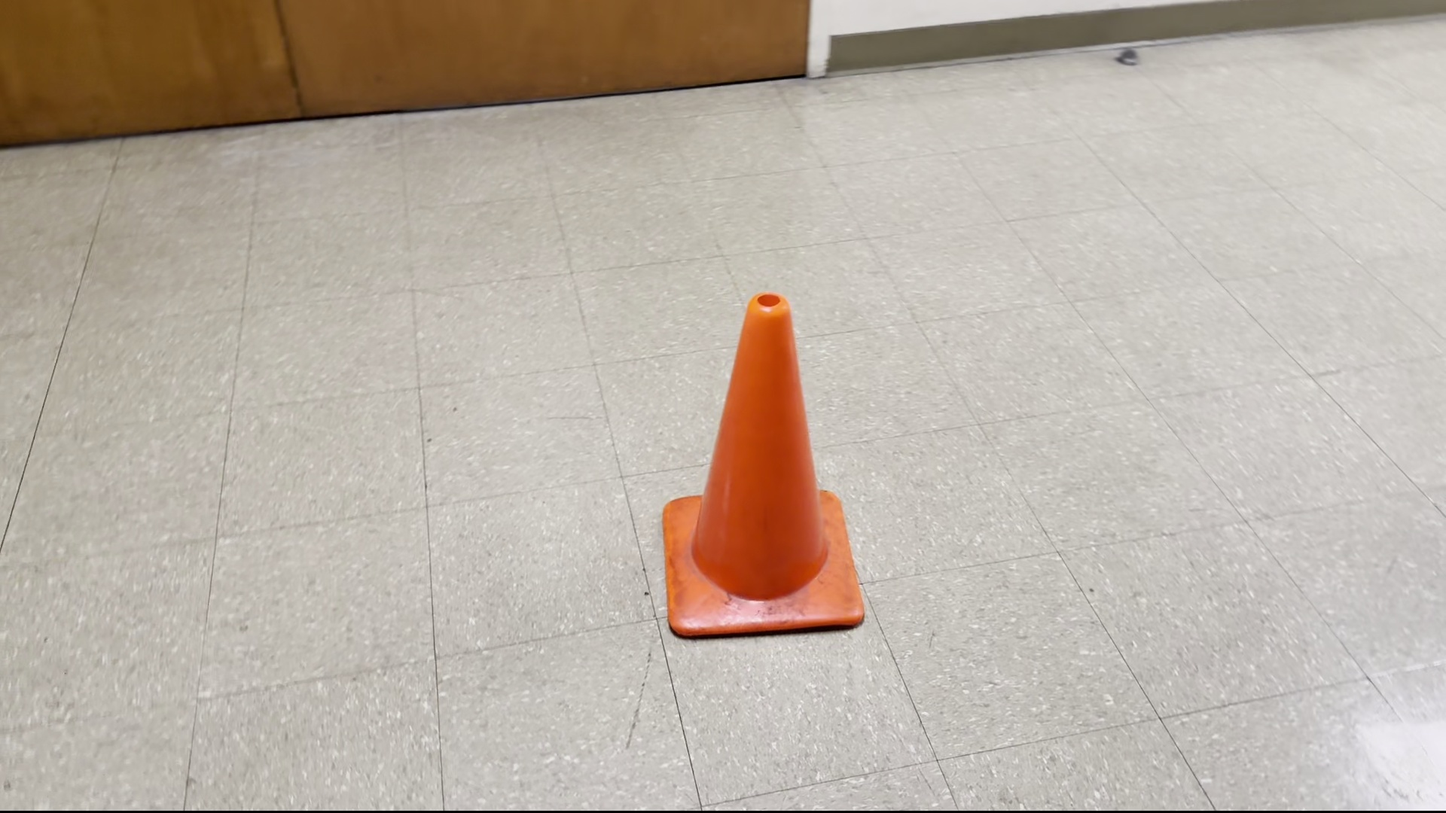traffic_cone: (661, 291, 865, 639)
